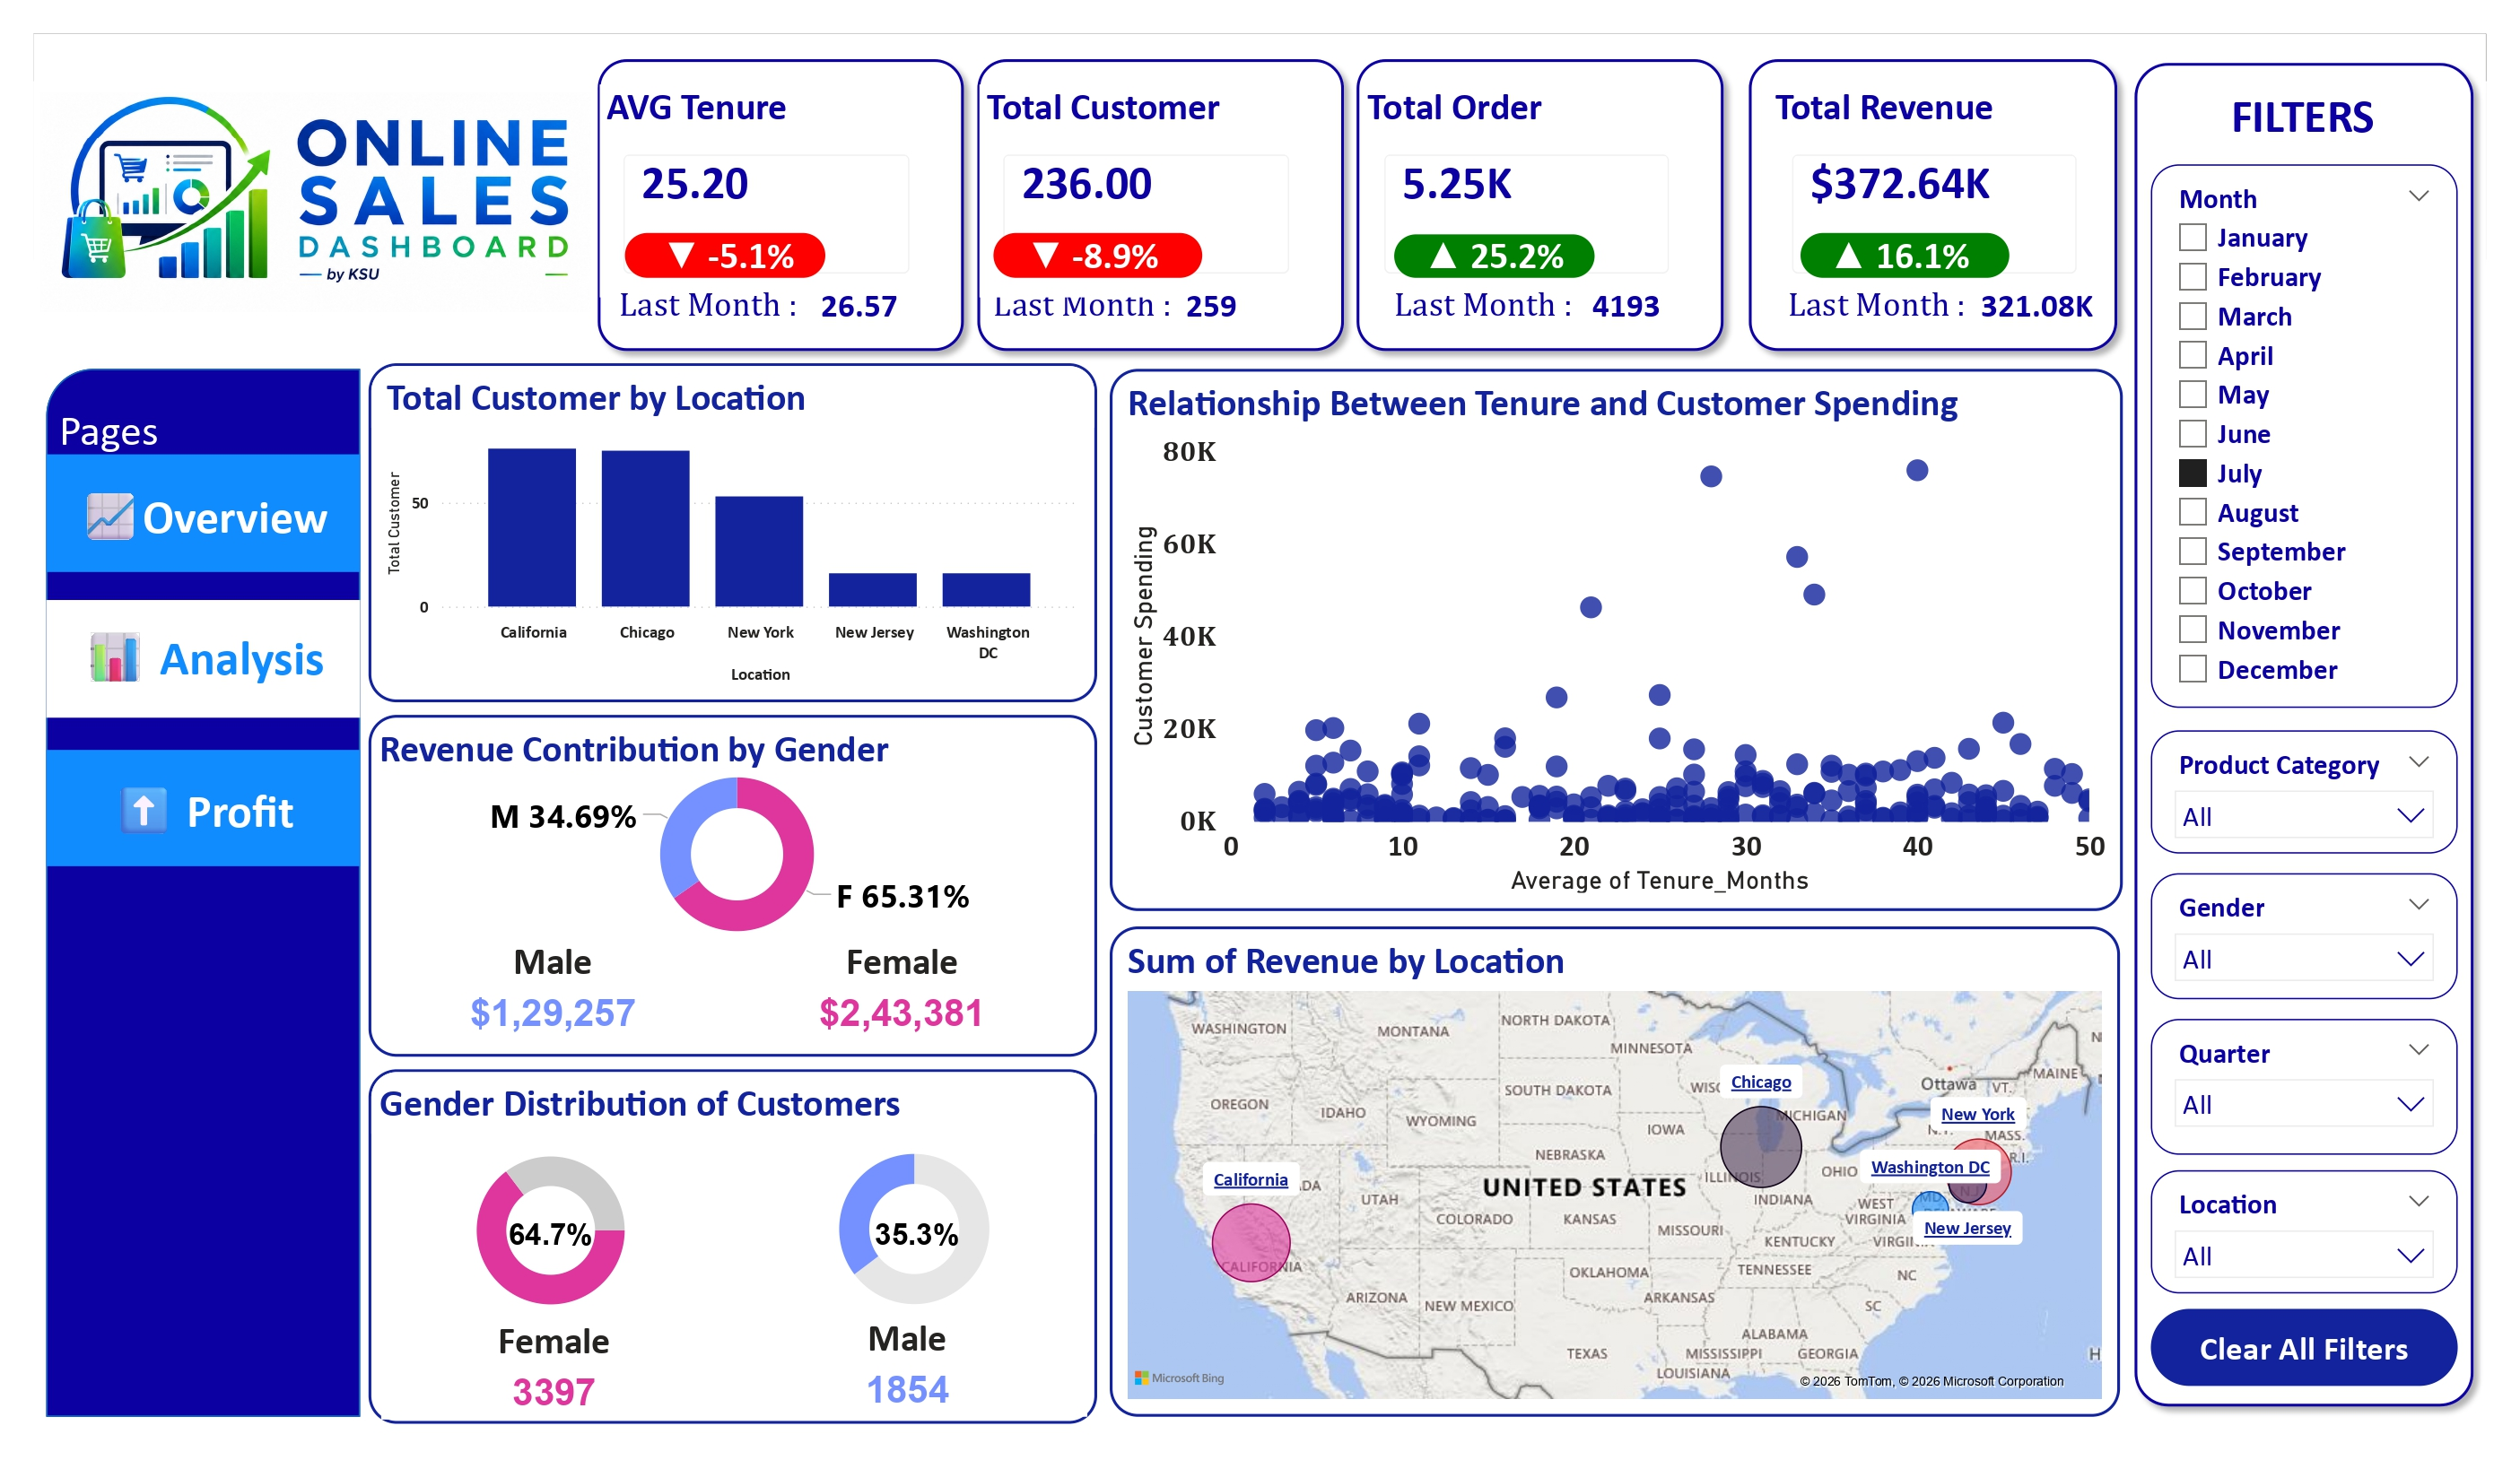

The page's visual inventory and layout, read from the dashboard file:
{"tool":"powerbi","page":{"name":"Customer & Location Analysis","canvas":[1750,1000],"ordinal":1},"visuals":[{"type":"shape","box":[9,239.5,223.6,747.8],"z":0},{"type":"shape","box":[1490.2,11.3,259.8,978.2],"z":1000},{"type":"shape","box":[684.5,142.3,142.3,31.6],"z":2000},{"type":"slicer","fields":{"Values":["Date_Table.Month"]},"box":[1511.3,92.6,219.1,388.6],"z":3000},{"type":"shape","box":[393.1,9,280.1,225.9],"z":4000},{"type":"shape","box":[664.2,9,280.1,225.9],"z":5000},{"type":"shape","box":[935.3,9,280.1,225.9],"z":6000},{"type":"cardVisual","title":"AVG Tenure","fields":{"Data":["dax.Avg Tenure"]},"box":[404.4,36.1,237.2,151.4],"z":7000},{"type":"shape","box":[422.4,142.3,142.3,31.6],"z":8000},{"type":"card","fields":{"Values":["dax.MoM%_Tenure"]},"box":[424.7,137.8,142.3,40.7],"z":9000},{"type":"card","fields":{"Values":["dax.Previous_Month_Tenure"]},"box":[524.1,169.4,131,49.7],"z":10000},{"type":"cardVisual","title":"Total Customer","fields":{"Data":["dax.Total Customer"]},"box":[675.5,36.1,237.2,151.4],"z":11000},{"type":"card","fields":{"Values":["dax.Previous_Month_Customer"]},"box":[774.9,169.4,131,49.7],"z":12000},{"type":"shape","title":"Last Month : ","box":[417.9,178.5,144.6,31.6],"z":13000},{"type":"shape","box":[684.5,142.3,149.1,31.6],"z":14000},{"type":"card","fields":{"Values":["dax.MoM%_Customer_Count"]},"box":[684.5,137.8,142.3,40.7],"z":15000},{"type":"cardVisual","title":"Total Order","fields":{"Data":["dax.Total_Orders"]},"box":[946.6,36.1,237.2,151.4],"z":16000},{"type":"card","fields":{"Values":["dax.Previous_Month_Order"]},"box":[1070.8,169.4,131,49.7],"z":17000},{"type":"shape","title":"Last Month : ","box":[971.4,178.5,144.6,31.6],"z":18000},{"type":"shape","box":[971.2,142.5,142.5,31.2],"z":19000},{"type":"card","fields":{"Values":["dax.MoM%_Order"]},"box":[971.4,137.8,142.3,40.7],"z":20000},{"type":"slicer","fields":{"Values":["Sales.Product_Category"]},"box":[1511.3,497,219.1,88.1],"z":21000},{"type":"slicer","fields":{"Values":["Date_Table.Quarter"]},"box":[1511.3,702.6,219.1,97.1],"z":22000},{"type":"slicer","fields":{"Values":["Sales.Gender"]},"box":[1511.3,598.7,219.1,90.4],"z":23000},{"type":"shape","title":"FILTERS","box":[1567.8,38.4,110.7,40.7],"z":24000},{"type":"image","box":[4.5,4.5,393.1,230.4],"z":26000},{"type":"actionButton","box":[9,404.4,223.6,83.6],"z":27000},{"type":"actionButton","box":[9,300.5,223.6,83.6],"z":28000},{"type":"shape","title":"Gender Distribution of Customers","box":[239.5,738.7,519.6,253],"z":29000},{"type":"donutChart","fields":{"Y":["dax.Total_Order"],"Category":["Sales.Gender"]},"box":[245.7,783,246.2,142.3],"z":30000},{"type":"donutChart","fields":{"Y":["dax.Total_Order"],"Category":["Sales.Gender"]},"box":[501,780.7,255.3,144.6],"z":31000},{"type":"card","title":"Male","fields":{"Values":["dax.Male_Count"]},"box":[494.7,914.9,257.5,72.3],"z":32000},{"type":"card","title":"Female","fields":{"Values":["dax.Female_Count"]},"box":[248.5,917.2,246.2,72.3],"z":33000},{"type":"card","fields":{"Values":["dax.% Female_Count"]},"box":[300.5,838.1,137.8,38.4],"z":34000},{"type":"card","fields":{"Values":["dax.% Male_Count"]},"box":[562.5,835.9,135.5,42.9],"z":35000},{"type":"shape","title":"Revenue Contribution by Gender","box":[239.5,485.7,519.6,244],"z":36000},{"type":"donutChart","fields":{"Category":["Sales.Gender"],"Y":["Sum(Sales.Revenue)"]},"box":[246.7,511.2,510.6,149.1],"z":37000},{"type":"card","title":"Male","fields":{"Values":["dax.Male_Revenue"]},"box":[246.2,646.1,248.5,72.3],"z":38000},{"type":"card","title":"Female","fields":{"Values":["dax.Female_Revenue"]},"box":[497,646.1,246.2,72.3],"z":39000},{"type":"map","fields":{"Category":["Sales.Location"],"Size":["Sum(Sales.Revenue)"]},"box":[768.1,637.1,720.6,350.2],"z":40000},{"type":"columnChart","fields":{"Y":["dax.Total Customer"],"Category":["Sales.Location"]},"box":[239.5,234.9,519.6,241.7],"z":41000},{"type":"shape","box":[1215.4,9,280.1,225.9],"z":42000},{"type":"cardVisual","title":"Total Revenue","fields":{"Data":["dax.Current_Month_Sale"]},"box":[1238,36.1,237.2,151.4],"z":43000},{"type":"shape","box":[1260.6,142.3,149.1,31.6],"z":44000},{"type":"card","fields":{"Values":["dax.MoM %"]},"box":[1260.6,137.8,142.3,40.7],"z":45000},{"type":"shape","title":"Last Month : ","box":[1251.5,178.5,144.6,31.6],"z":46000},{"type":"card","fields":{"Values":["dax.Previous_month_sale"]},"box":[1364.5,169.4,131,49.7],"z":47000},{"type":"scatterChart","title":"Relationship Between Tenure and Customer Spending","fields":{"X":["Avg(Sales.Tenure_Months)"],"Y":["dax.Customer Spending"],"Category":["Sales.CustomerID"]},"box":[768.1,239.5,722.9,386.3],"z":48000},{"type":"slicer","fields":{"Values":["Sales.Location"]},"box":[1511.3,811,219.1,88.1],"z":49000},{"type":"shape","title":"Pages","box":[18.1,264.3,110.7,40.7],"z":50000},{"type":"actionButton","box":[9,510.6,223.6,83.6],"z":51000},{"type":"shape","box":[1511.3,910.4,219.1,54.2],"z":52000},{"type":"shape","title":"Last Month : ","box":[684.5,178.5,144.6,31.6],"z":53000}]}

Visuals, with their boxes on the page's 1750x1000 design canvas (x1, y1, x2, y2). These are canvas units, not pixel positions in the 2520x1469 screenshot, which may show the page scaled, cropped or inside an application window:
shape: <bbox>9, 240, 233, 987</bbox>
shape: <bbox>1490, 11, 1750, 990</bbox>
shape: <bbox>684, 142, 827, 174</bbox>
slicer - Date_Table.Month: <bbox>1511, 93, 1730, 481</bbox>
shape: <bbox>393, 9, 673, 235</bbox>
shape: <bbox>664, 9, 944, 235</bbox>
shape: <bbox>935, 9, 1215, 235</bbox>
"AVG Tenure" cardVisual: <bbox>404, 36, 642, 188</bbox>
shape: <bbox>422, 142, 565, 174</bbox>
card - dax.MoM%_Tenure: <bbox>425, 138, 567, 178</bbox>
card - dax.Previous_Month_Tenure: <bbox>524, 169, 655, 219</bbox>
"Total Customer" cardVisual: <bbox>676, 36, 913, 188</bbox>
card - dax.Previous_Month_Customer: <bbox>775, 169, 906, 219</bbox>
"Last Month : " shape: <bbox>418, 178, 562, 210</bbox>
shape: <bbox>684, 142, 834, 174</bbox>
card - dax.MoM%_Customer_Count: <bbox>684, 138, 827, 178</bbox>
"Total Order" cardVisual: <bbox>947, 36, 1184, 188</bbox>
card - dax.Previous_Month_Order: <bbox>1071, 169, 1202, 219</bbox>
"Last Month : " shape: <bbox>971, 178, 1116, 210</bbox>
shape: <bbox>971, 142, 1114, 174</bbox>
card - dax.MoM%_Order: <bbox>971, 138, 1114, 178</bbox>
slicer - Sales.Product_Category: <bbox>1511, 497, 1730, 585</bbox>
slicer - Date_Table.Quarter: <bbox>1511, 703, 1730, 800</bbox>
slicer - Sales.Gender: <bbox>1511, 599, 1730, 689</bbox>
"FILTERS" shape: <bbox>1568, 38, 1678, 79</bbox>
image: <bbox>4, 4, 398, 235</bbox>
actionButton: <bbox>9, 404, 233, 488</bbox>
actionButton: <bbox>9, 300, 233, 384</bbox>
"Gender Distribution of Customers" shape: <bbox>240, 739, 759, 992</bbox>
donutChart - dax.Total_Order x Sales.Gender: <bbox>246, 783, 492, 925</bbox>
donutChart - dax.Total_Order x Sales.Gender: <bbox>501, 781, 756, 925</bbox>
"Male" card: <bbox>495, 915, 752, 987</bbox>
"Female" card: <bbox>248, 917, 495, 990</bbox>
card - dax.% Female_Count: <bbox>300, 838, 438, 876</bbox>
card - dax.% Male_Count: <bbox>562, 836, 698, 879</bbox>
"Revenue Contribution by Gender" shape: <bbox>240, 486, 759, 730</bbox>
donutChart - Sales.Gender x Sum(Sales.Revenue): <bbox>247, 511, 757, 660</bbox>
"Male" card: <bbox>246, 646, 495, 718</bbox>
"Female" card: <bbox>497, 646, 743, 718</bbox>
map - Sales.Location x Sum(Sales.Revenue): <bbox>768, 637, 1489, 987</bbox>
columnChart - dax.Total Customer x Sales.Location: <bbox>240, 235, 759, 477</bbox>
shape: <bbox>1215, 9, 1496, 235</bbox>
"Total Revenue" cardVisual: <bbox>1238, 36, 1475, 188</bbox>
shape: <bbox>1261, 142, 1410, 174</bbox>
card - dax.MoM %: <bbox>1261, 138, 1403, 178</bbox>
"Last Month : " shape: <bbox>1252, 178, 1396, 210</bbox>
card - dax.Previous_month_sale: <bbox>1364, 169, 1496, 219</bbox>
"Relationship Between Tenure and Customer Spending" scatterChart: <bbox>768, 240, 1491, 626</bbox>
slicer - Sales.Location: <bbox>1511, 811, 1730, 899</bbox>
"Pages" shape: <bbox>18, 264, 129, 305</bbox>
actionButton: <bbox>9, 511, 233, 594</bbox>
shape: <bbox>1511, 910, 1730, 965</bbox>
"Last Month : " shape: <bbox>684, 178, 829, 210</bbox>
